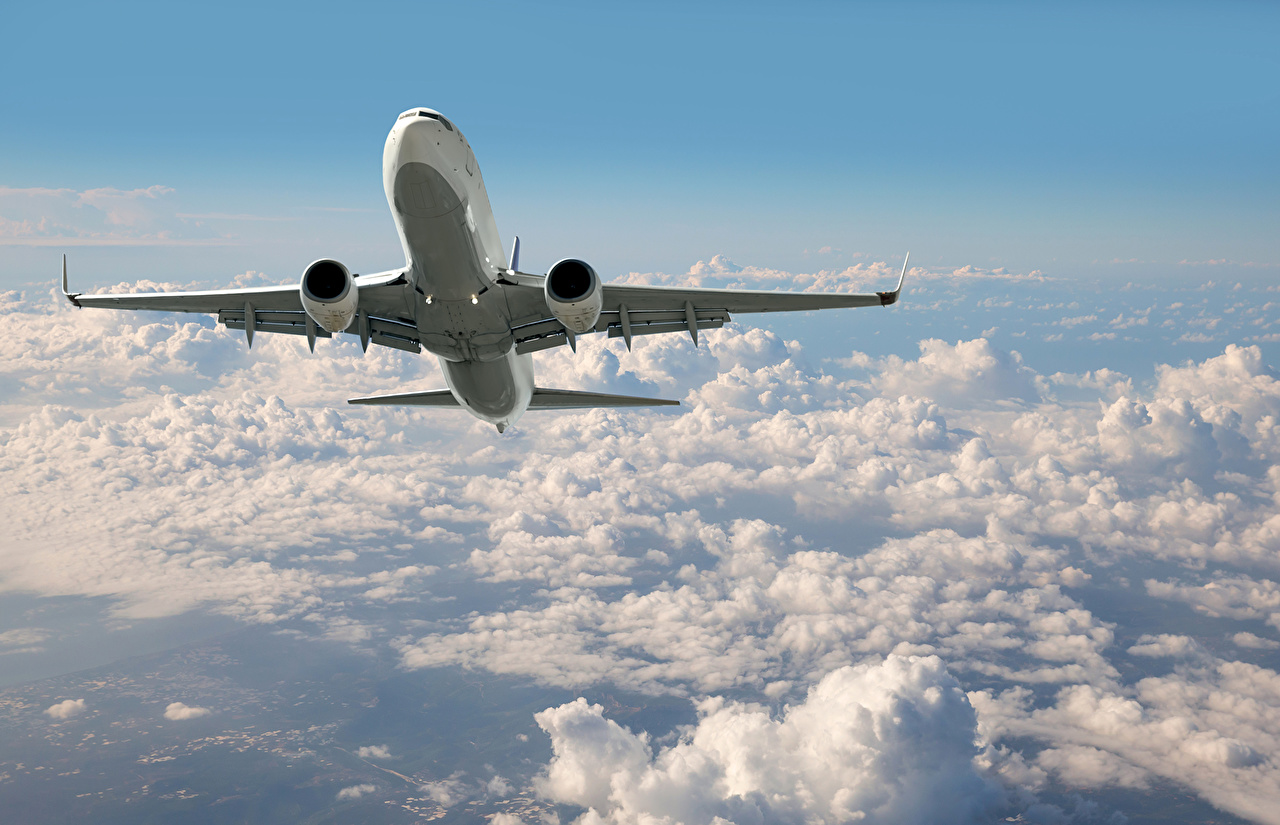plane: (61, 98, 911, 435)
